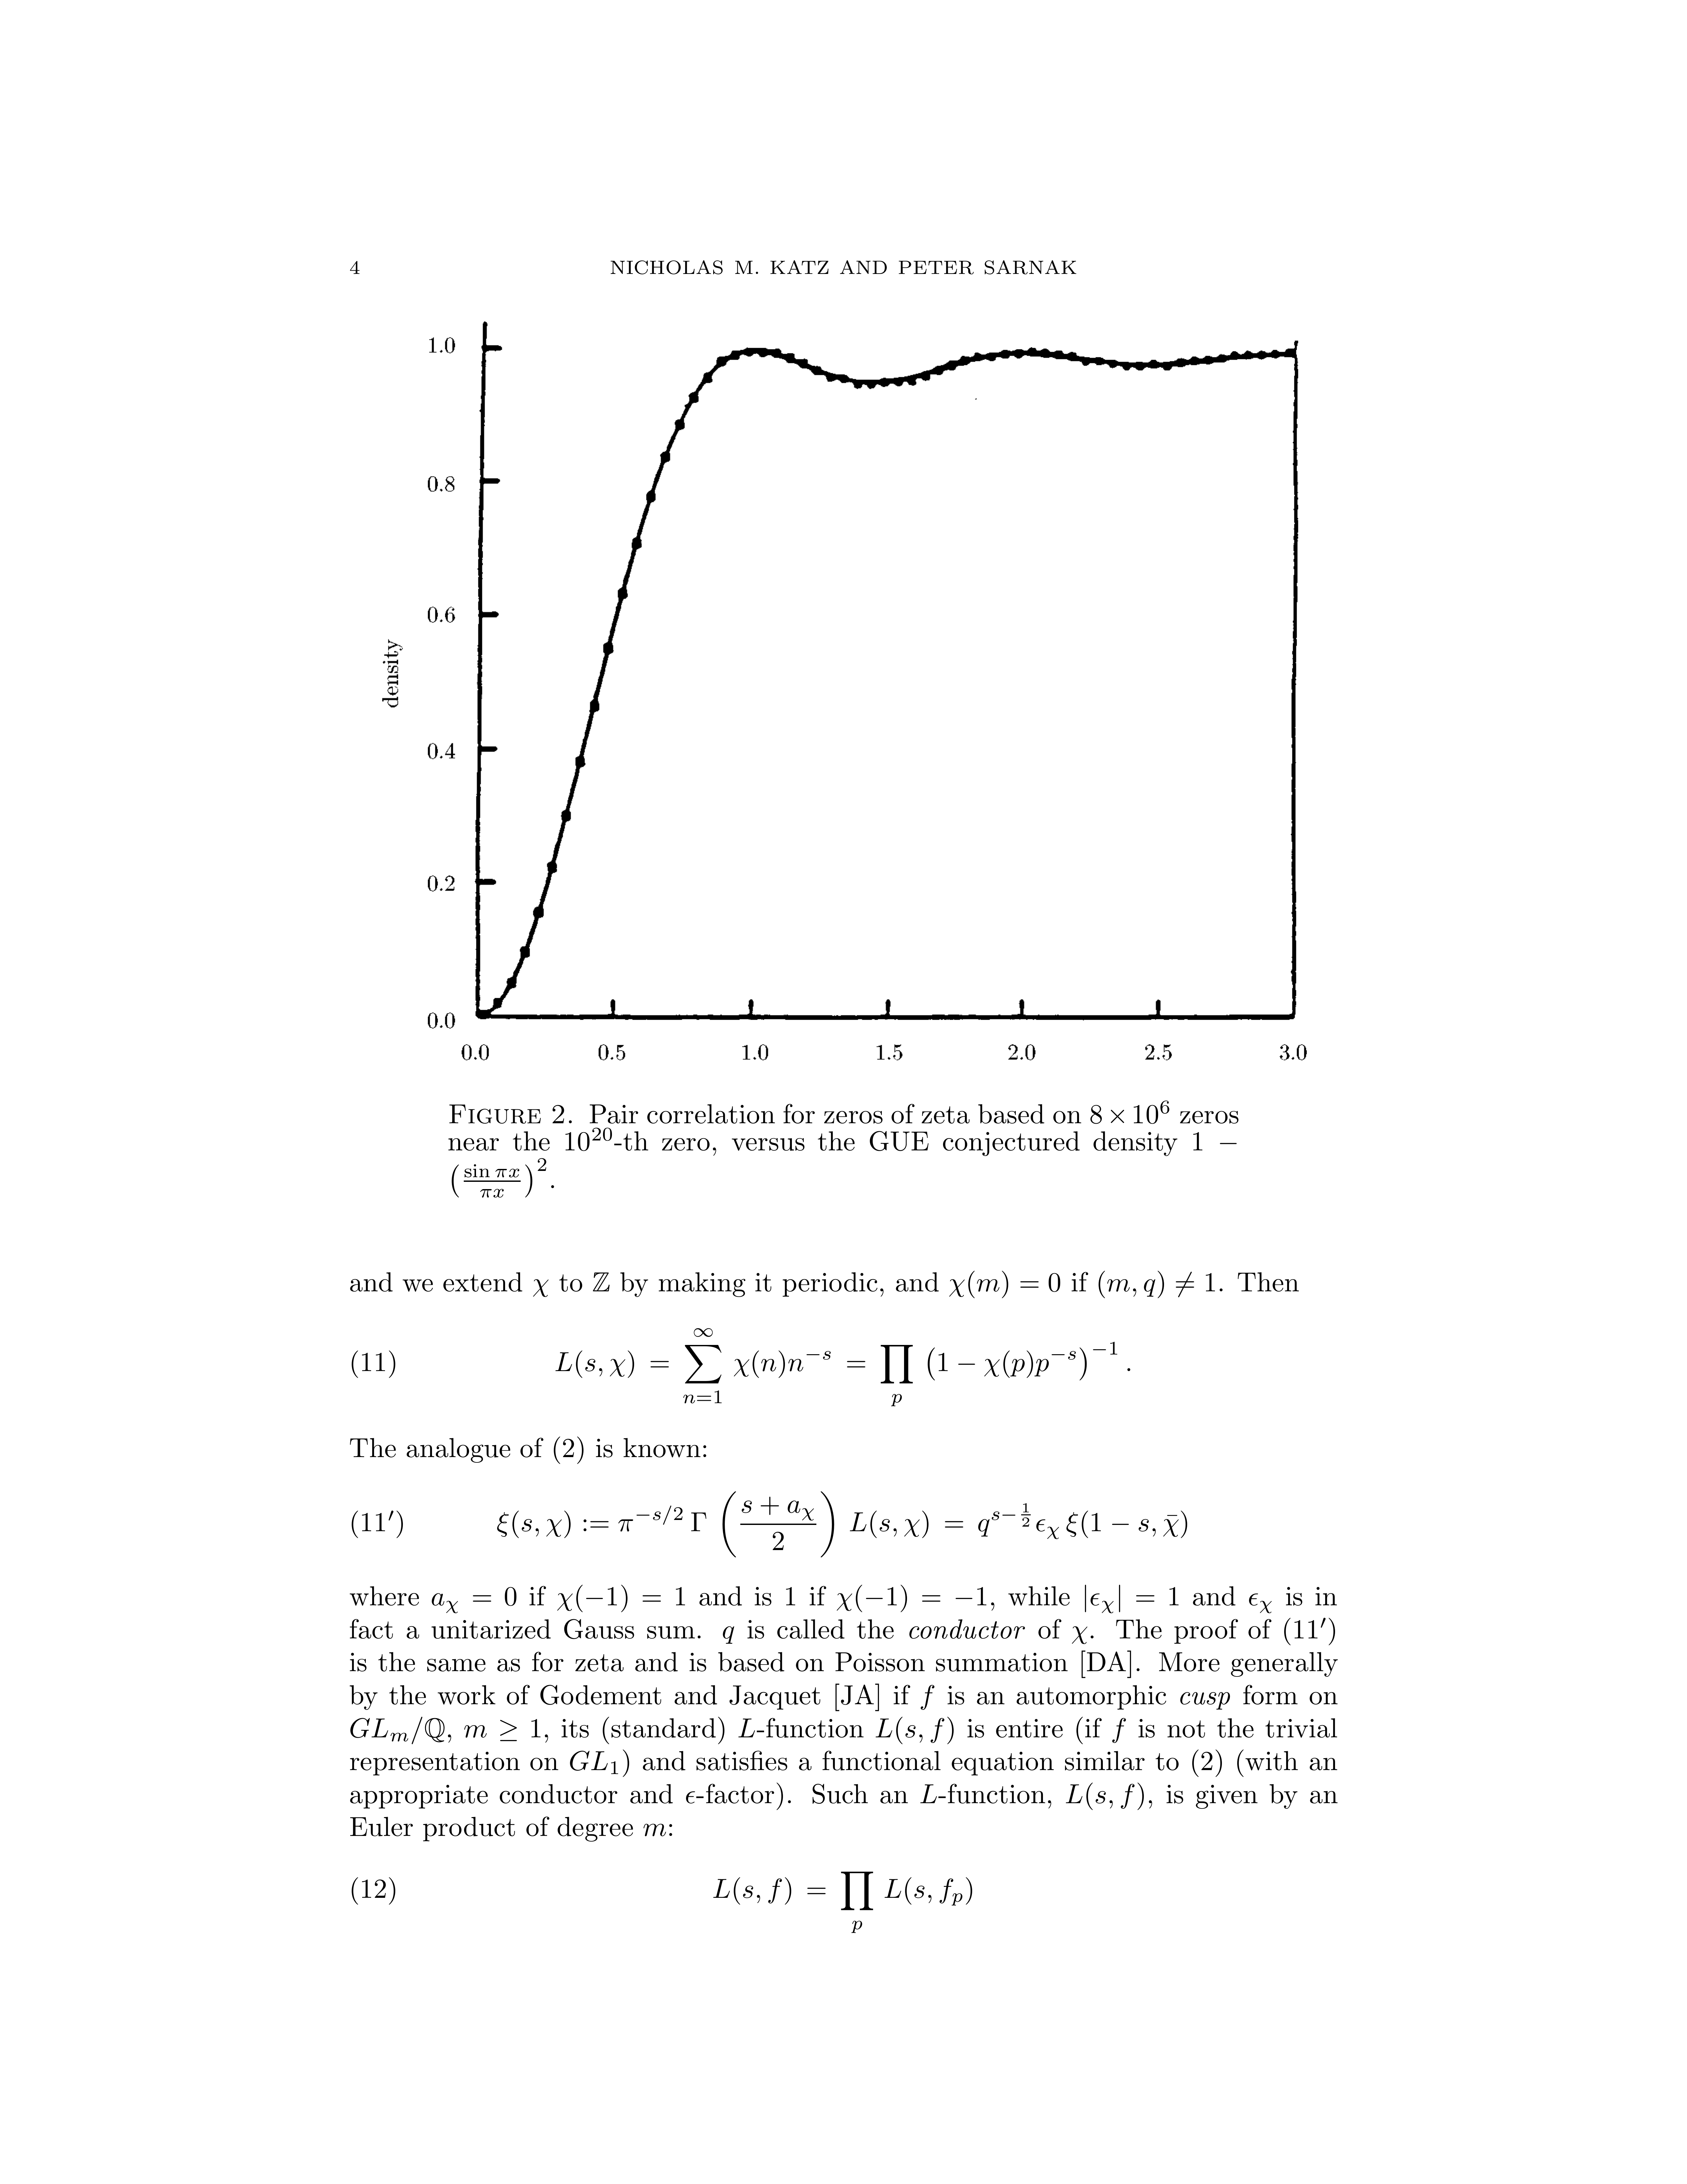maths: (448, 1127, 1237, 1197), (498, 1491, 1187, 1556), (555, 1328, 1116, 1406), (712, 1872, 971, 1932), (836, 1585, 985, 1611), (558, 1585, 684, 1611), (351, 1716, 450, 1744), (1084, 1585, 1178, 1613), (432, 1587, 516, 1613), (875, 1716, 953, 1744), (1065, 1783, 1143, 1810), (1090, 1101, 1170, 1124), (464, 1720, 540, 1741), (571, 1751, 618, 1774), (1249, 1594, 1271, 1613), (920, 1686, 934, 1709), (739, 1718, 755, 1737), (1113, 1718, 1125, 1743), (643, 1824, 666, 1837), (920, 1785, 936, 1803), (1072, 1626, 1086, 1643), (723, 1626, 734, 1643), (686, 1790, 695, 1803)
